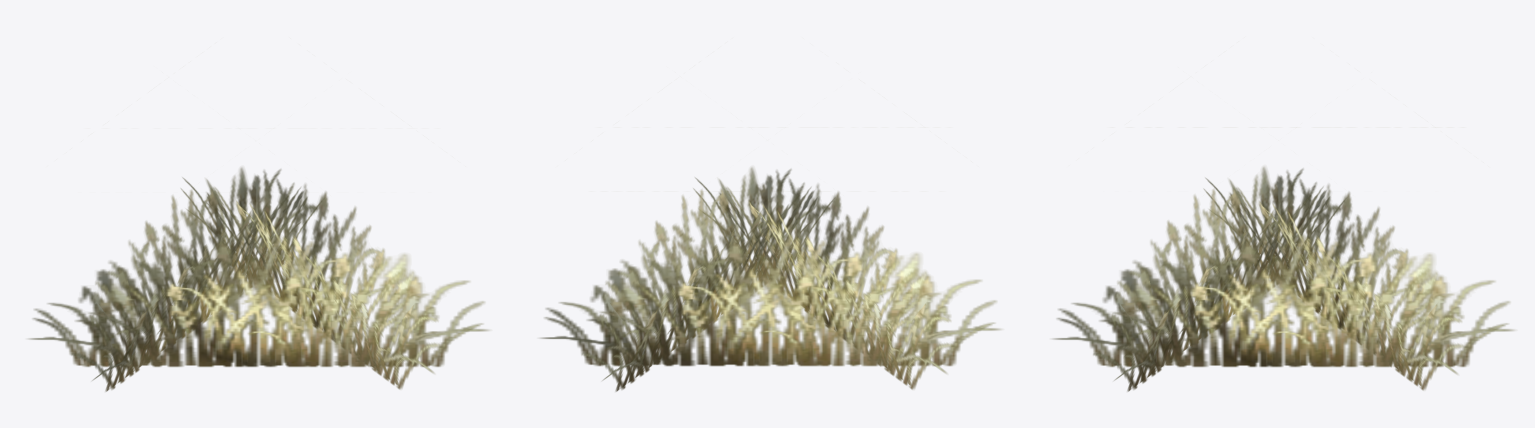
File: grass-03.glb
3 renders of one model, left to right at view 1: azimuth 30°, elevation 25°; view 2: azimuth 150°, elevation 25°; view 3: azimuth 270°, elevation 25°, orthographic.
Visible parts, largest first — view 1: grass_la_tall_a; view 2: grass_la_tall_a; view 3: grass_la_tall_a.
Part boxes in pixels (x1=…): grass_la_tall_a: x1=29, y1=167, x2=488, y2=391; grass_la_tall_a: x1=540, y1=167, x2=1000, y2=391; grass_la_tall_a: x1=1053, y1=167, x2=1514, y2=391.
Size of the model in its own units: 6.92 by 3.22 by 6.82.
1 material, 1 textured.
